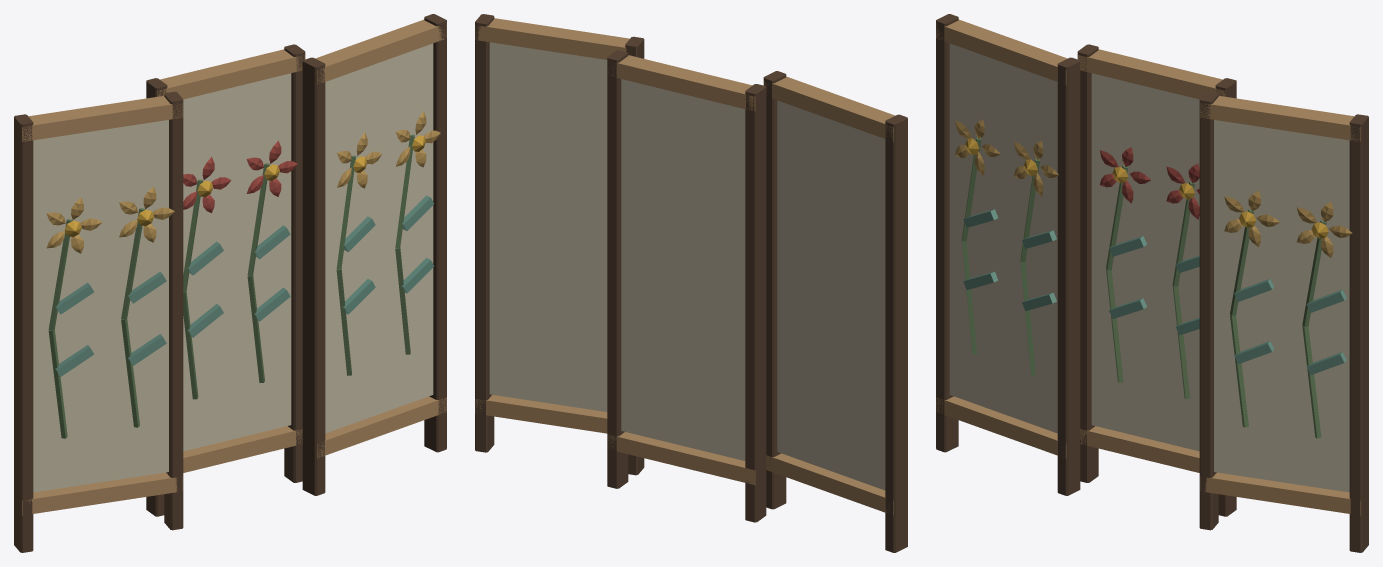
Rendered from screen_embroidered.glb.
3 renders of one model, left to right at view 1: azimuth 30°, elevation 25°; view 2: azimuth 150°, elevation 25°; view 3: azimuth 330°, elevation 25°, orthographic.
Visible parts, largest first — view 1: geometry; view 2: geometry; view 3: geometry.
Boxes of the visible parts, x1,y1,x2,y2 form: geometry: [14, 14, 446, 552]; geometry: [475, 14, 907, 552]; geometry: [936, 14, 1368, 552].
Bounding box in the file's own units: 1.79 × 1.72 × 0.2289.
